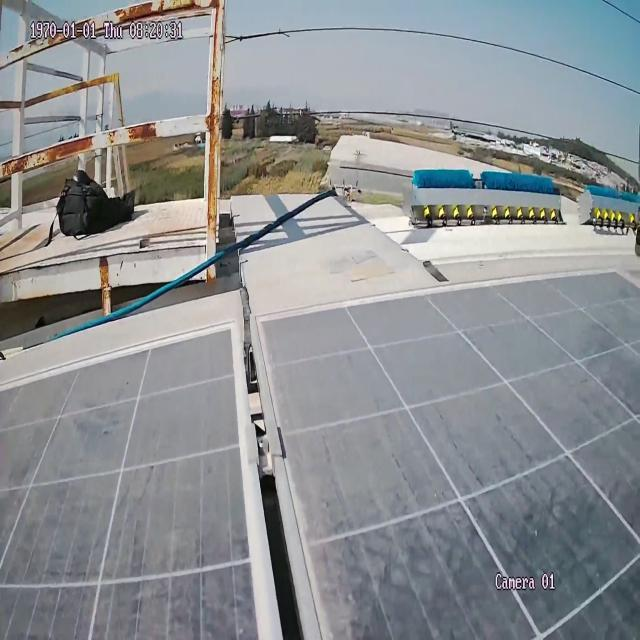interior panel: (175, 269, 357, 640)
outher panel: (0, 23, 640, 344)
